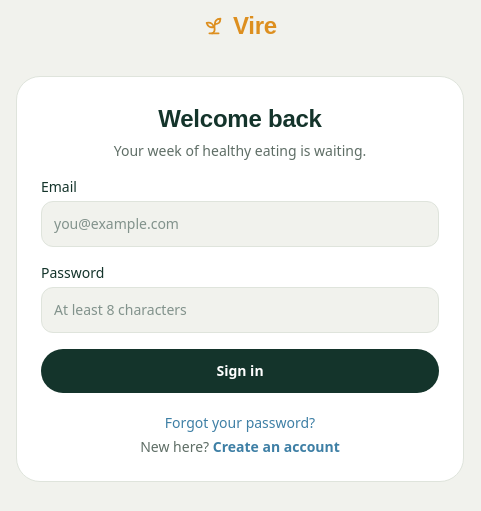
Test case: invite-only registration › refuses a second account for the same address
Click the button "Create an account".
click(276, 447)  # box [213, 437, 340, 457]
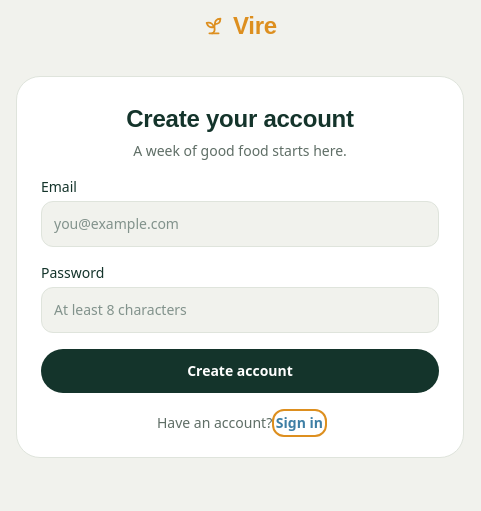
Type "owner@example.com" into the field labelled "Email".
click(240, 224); type("owner@example.com")  # box [41, 201, 439, 247]
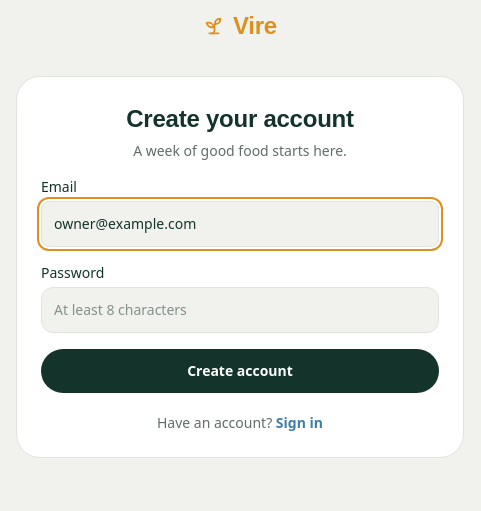
Type "correct horse" into the password field labelled "Password".
click(240, 310); type("correct horse")  # box [41, 287, 439, 333]
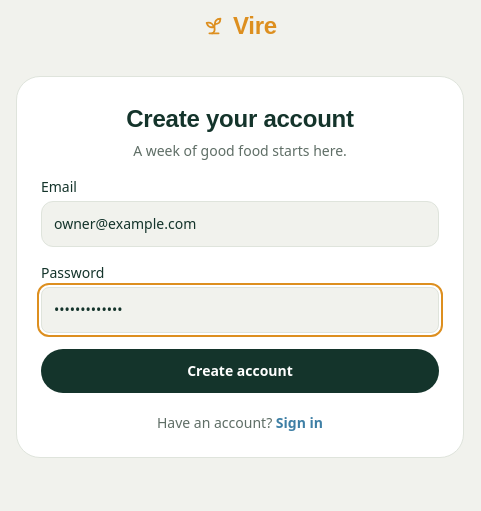
Click the button "Create account".
click(240, 371)  # box [41, 349, 439, 393]
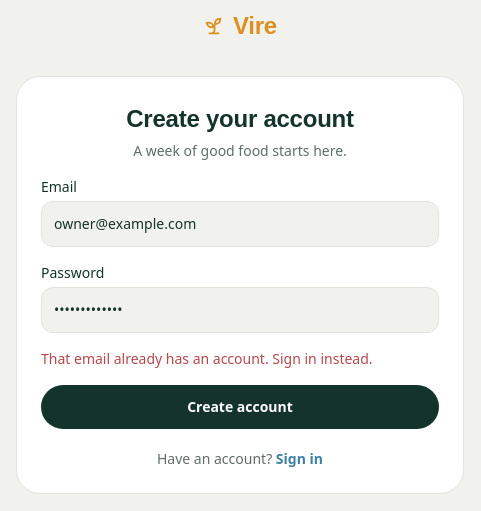
expect the message reads "That email already has an account. Sign in instead.": met, box [41, 349, 372, 368]
